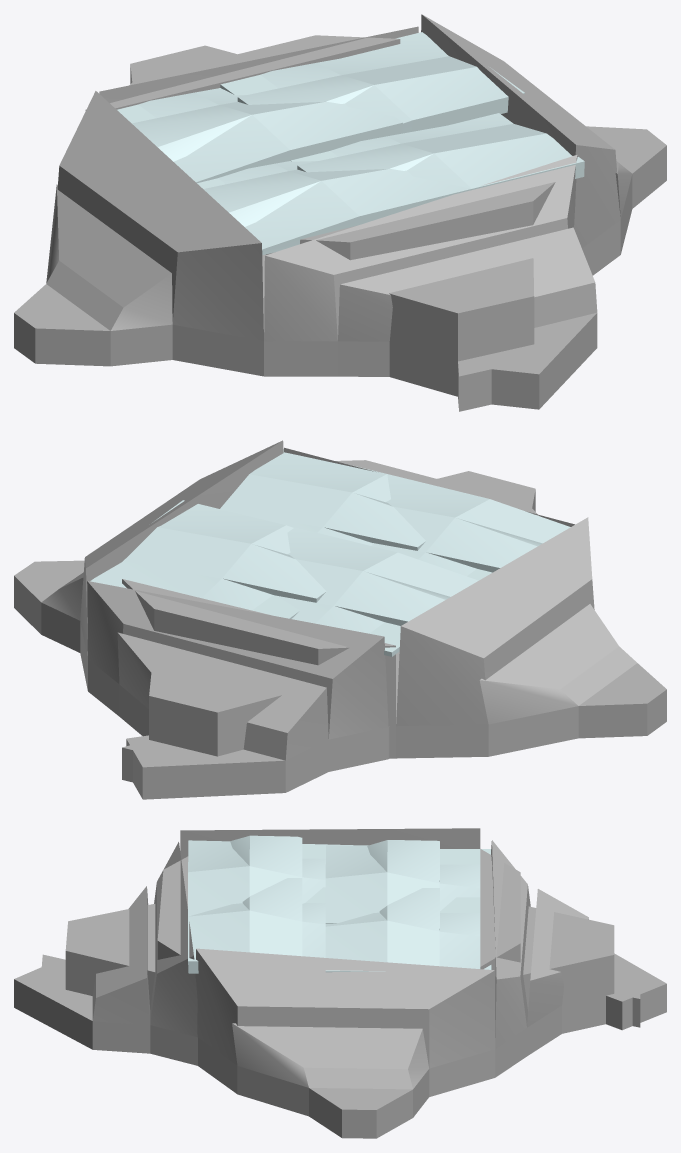
File: piedra acuatica.gltf
3 renders of one model, top to bottom at view 1: azimuth 30°, elevation 25°; view 2: azimuth 150°, elevation 25°; view 3: azimuth 270°, elevation 25°, orthographic. The views are drawn at different scales.
Parts seen in each view (by area): view 1: Cubo (×2), p (×4); view 2: Cubo (×2), p (×4); view 3: Cubo (×2), p (×4).
Boxes of the visible parts, left/top/right/bottom form: Cubo (×2): left=14, top=14, right=666, bottom=411; p (×4): left=117, top=32, right=584, bottom=255; Cubo (×2): left=14, top=440, right=666, bottom=799; p (×4): left=90, top=449, right=570, bottom=656; Cubo (×2): left=14, top=828, right=666, bottom=1138; p (×4): left=188, top=835, right=491, bottom=973.
Bounding box in the file's own units: 2.21 × 0.466 × 2.33.
